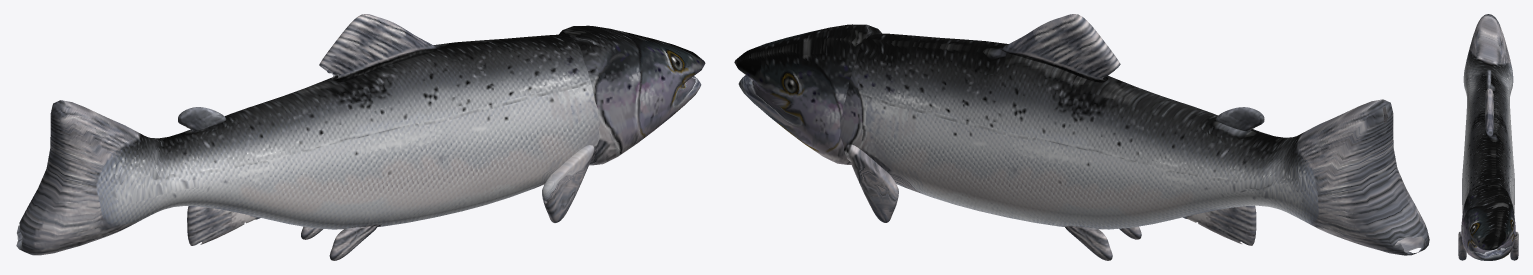
Rendered from Laks.fbx.
3 renders of one model, left to right at view 1: azimuth 30°, elevation 25°; view 2: azimuth 150°, elevation 25°; view 3: azimuth 270°, elevation 25°, orthographic. The views are drawn at different scales.
Parts seen in each view (by area): view 1: fisk; view 2: fisk; view 3: fisk.
Part boxes in pixels (left/top/right/bottom): fisk: left=16, top=14, right=705, bottom=260; fisk: left=734, top=14, right=1429, bottom=260; fisk: left=1458, top=14, right=1518, bottom=260.
Bounding box in the file's own units: 770 × 248 × 107.
